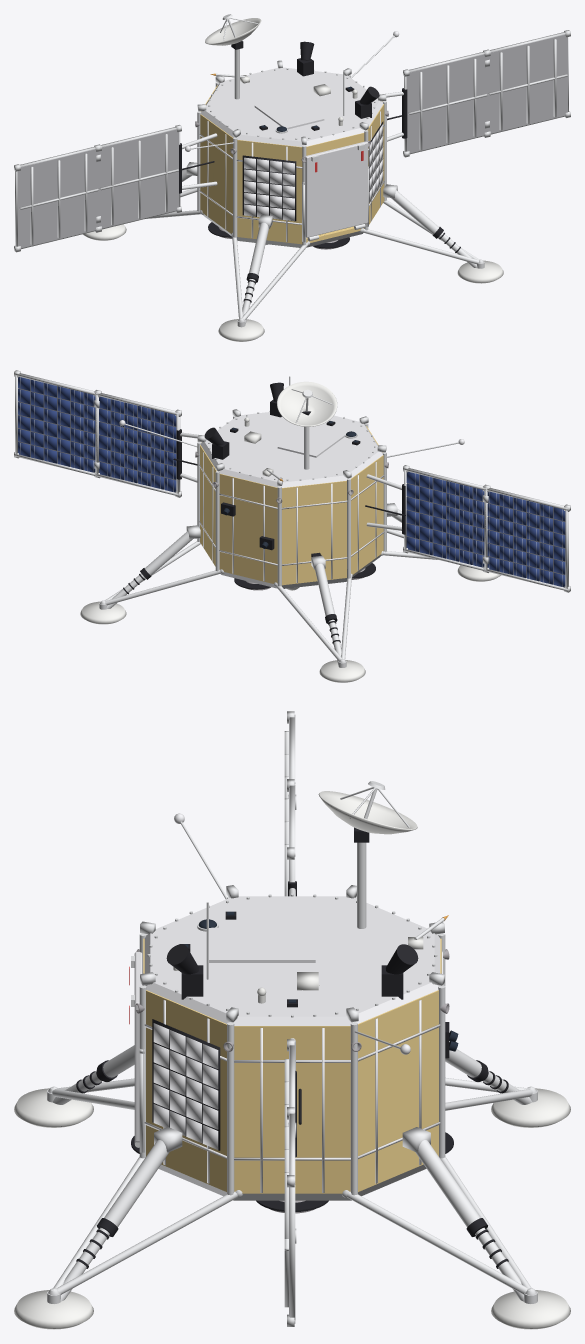
The model's file is lander.glb.
The picture shows the model from 3 angles, top to bottom: view 1: azimuth 30°, elevation 25°; view 2: azimuth 150°, elevation 25°; view 3: azimuth 270°, elevation 25°; orthographic projection. The views are drawn at different scales.
Visible parts, largest first — view 1: top_radiator, deck_body, wing_port_panel2_substrate, wing_port_panel1_substrate, wing_starboard_panel2_substrate, wing_starboard_panel1_substrate, ramp_panel, radiator_osr_tiles, corner_longerons, radiator_fins, wing_starboard_panel1_back_ribs, wing_starboard_panel2_back_ribs (+19 smaller); view 2: deck_body, top_radiator, wing_port_panel2_cells, wing_port_panel1_cells, wing_starboard_panel2_cells, wing_starboard_panel1_cells, corner_longerons, mli_seams_tape, antenna_dish, radiator_fins, wing_starboard_panel1_frame, wing_starboard_panel2_frame (+20 smaller); view 3: deck_body, top_radiator, radiator_osr_tiles, corner_longerons, radiator_fins, mli_seams_tape, leg2_footpad, leg3_footpad, antenna_dish, leg0_footpad, leg1_footpad, leg2_secondary1 (+13 smaller).
Part boxes in pixels (left/top/right/bottom): top_radiator: left=201, top=67, right=383, bottom=146; deck_body: left=200, top=85, right=384, bottom=244; wing_port_panel2_substrate: left=17, top=149, right=98, bottom=248; wing_port_panel1_substrate: left=98, top=129, right=179, bottom=228; wing_starboard_panel2_substrate: left=487, top=34, right=567, bottom=133; wing_starboard_panel1_substrate: left=406, top=54, right=487, bottom=153; ramp_panel: left=305, top=141, right=368, bottom=237; radiator_osr_tiles: left=244, top=124, right=383, bottom=220; corner_longerons: left=197, top=60, right=386, bottom=245; radiator_fins: left=254, top=96, right=324, bottom=129; wing_starboard_panel1_back_ribs: left=408, top=58, right=487, bottom=150; wing_starboard_panel2_back_ribs: left=488, top=39, right=567, bottom=130; deck_body: left=200, top=426, right=383, bottom=585; top_radiator: left=201, top=412, right=382, bottom=487; wing_port_panel2_cells: left=487, top=491, right=565, bottom=587; wing_port_panel1_cells: left=406, top=471, right=484, bottom=567; wing_starboard_panel2_cells: left=18, top=377, right=95, bottom=472; wing_starboard_panel1_cells: left=99, top=396, right=176, bottom=492; corner_longerons: left=197, top=409, right=386, bottom=586; mli_seams_tape: left=199, top=452, right=384, bottom=582; antenna_dish: left=277, top=381, right=337, bottom=426; radiator_fins: left=277, top=426, right=346, bottom=457; wing_starboard_panel1_frame: left=94, top=390, right=181, bottom=497; wing_starboard_panel2_frame: left=14, top=370, right=101, bottom=478; deck_body: left=143, top=938, right=441, bottom=1193; top_radiator: left=144, top=896, right=440, bottom=1025; radiator_osr_tiles: left=153, top=1023, right=218, bottom=1149; corner_longerons: left=139, top=885, right=445, bottom=1195; radiator_fins: left=209, top=927, right=315, bottom=962; mli_seams_tape: left=144, top=951, right=442, bottom=1192; leg2_footpad: left=14, top=1290, right=93, bottom=1329; leg3_footpad: left=491, top=1290, right=570, bottom=1329; antenna_dish: left=318, top=791, right=417, bottom=834; leg0_footpad: left=491, top=1088, right=570, bottom=1127; leg1_footpad: left=14, top=1088, right=93, bottom=1127; leg2_secondary1: left=56, top=1191, right=237, bottom=1294.
Size of the model in its own units: 7.19 by 2.86 by 3.62.
